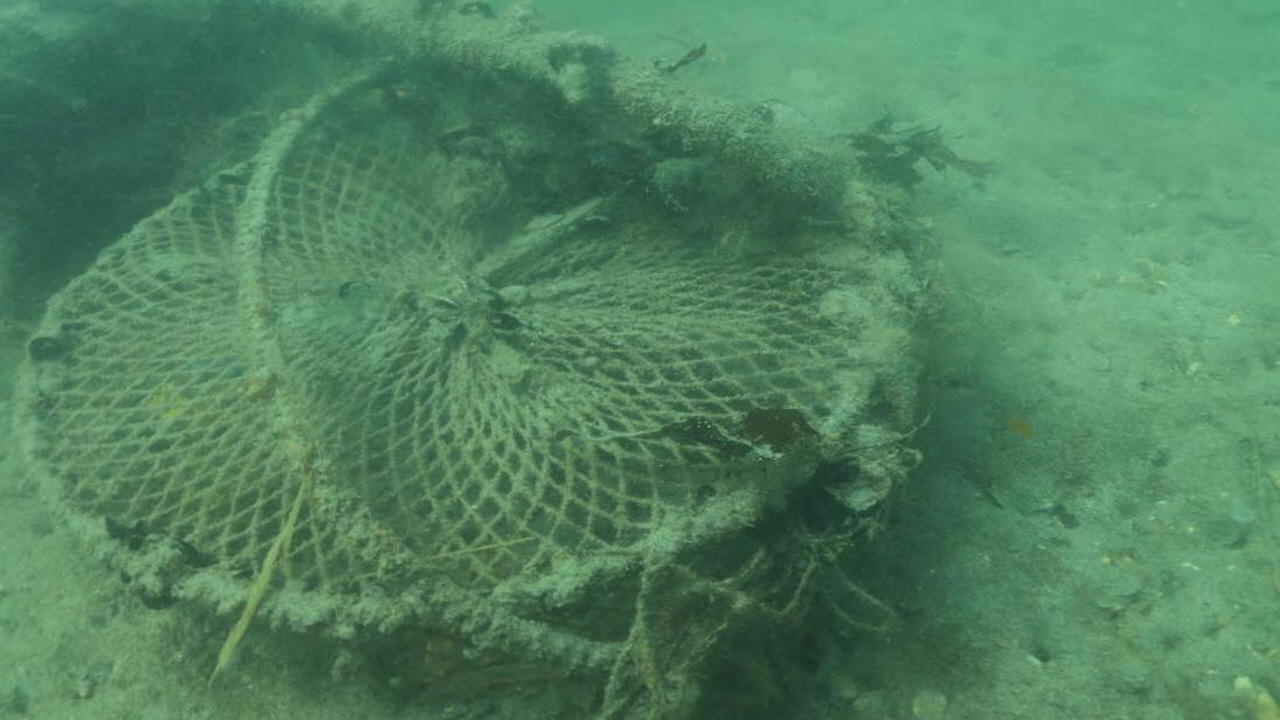circular fish trap: (15, 104, 877, 631)
